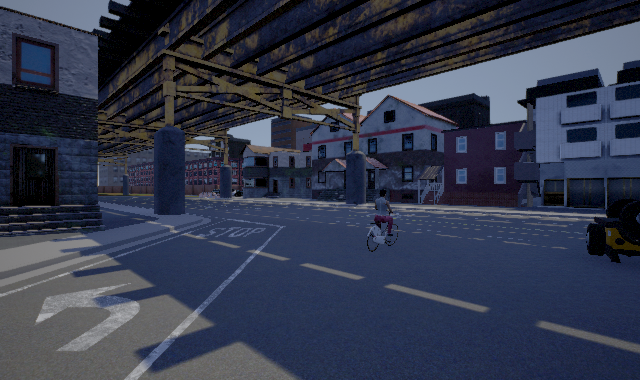bike: (367, 192, 404, 252)
vehicle: (586, 198, 640, 263)
